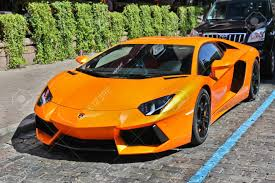Lamborghini: (40, 38, 261, 156)
